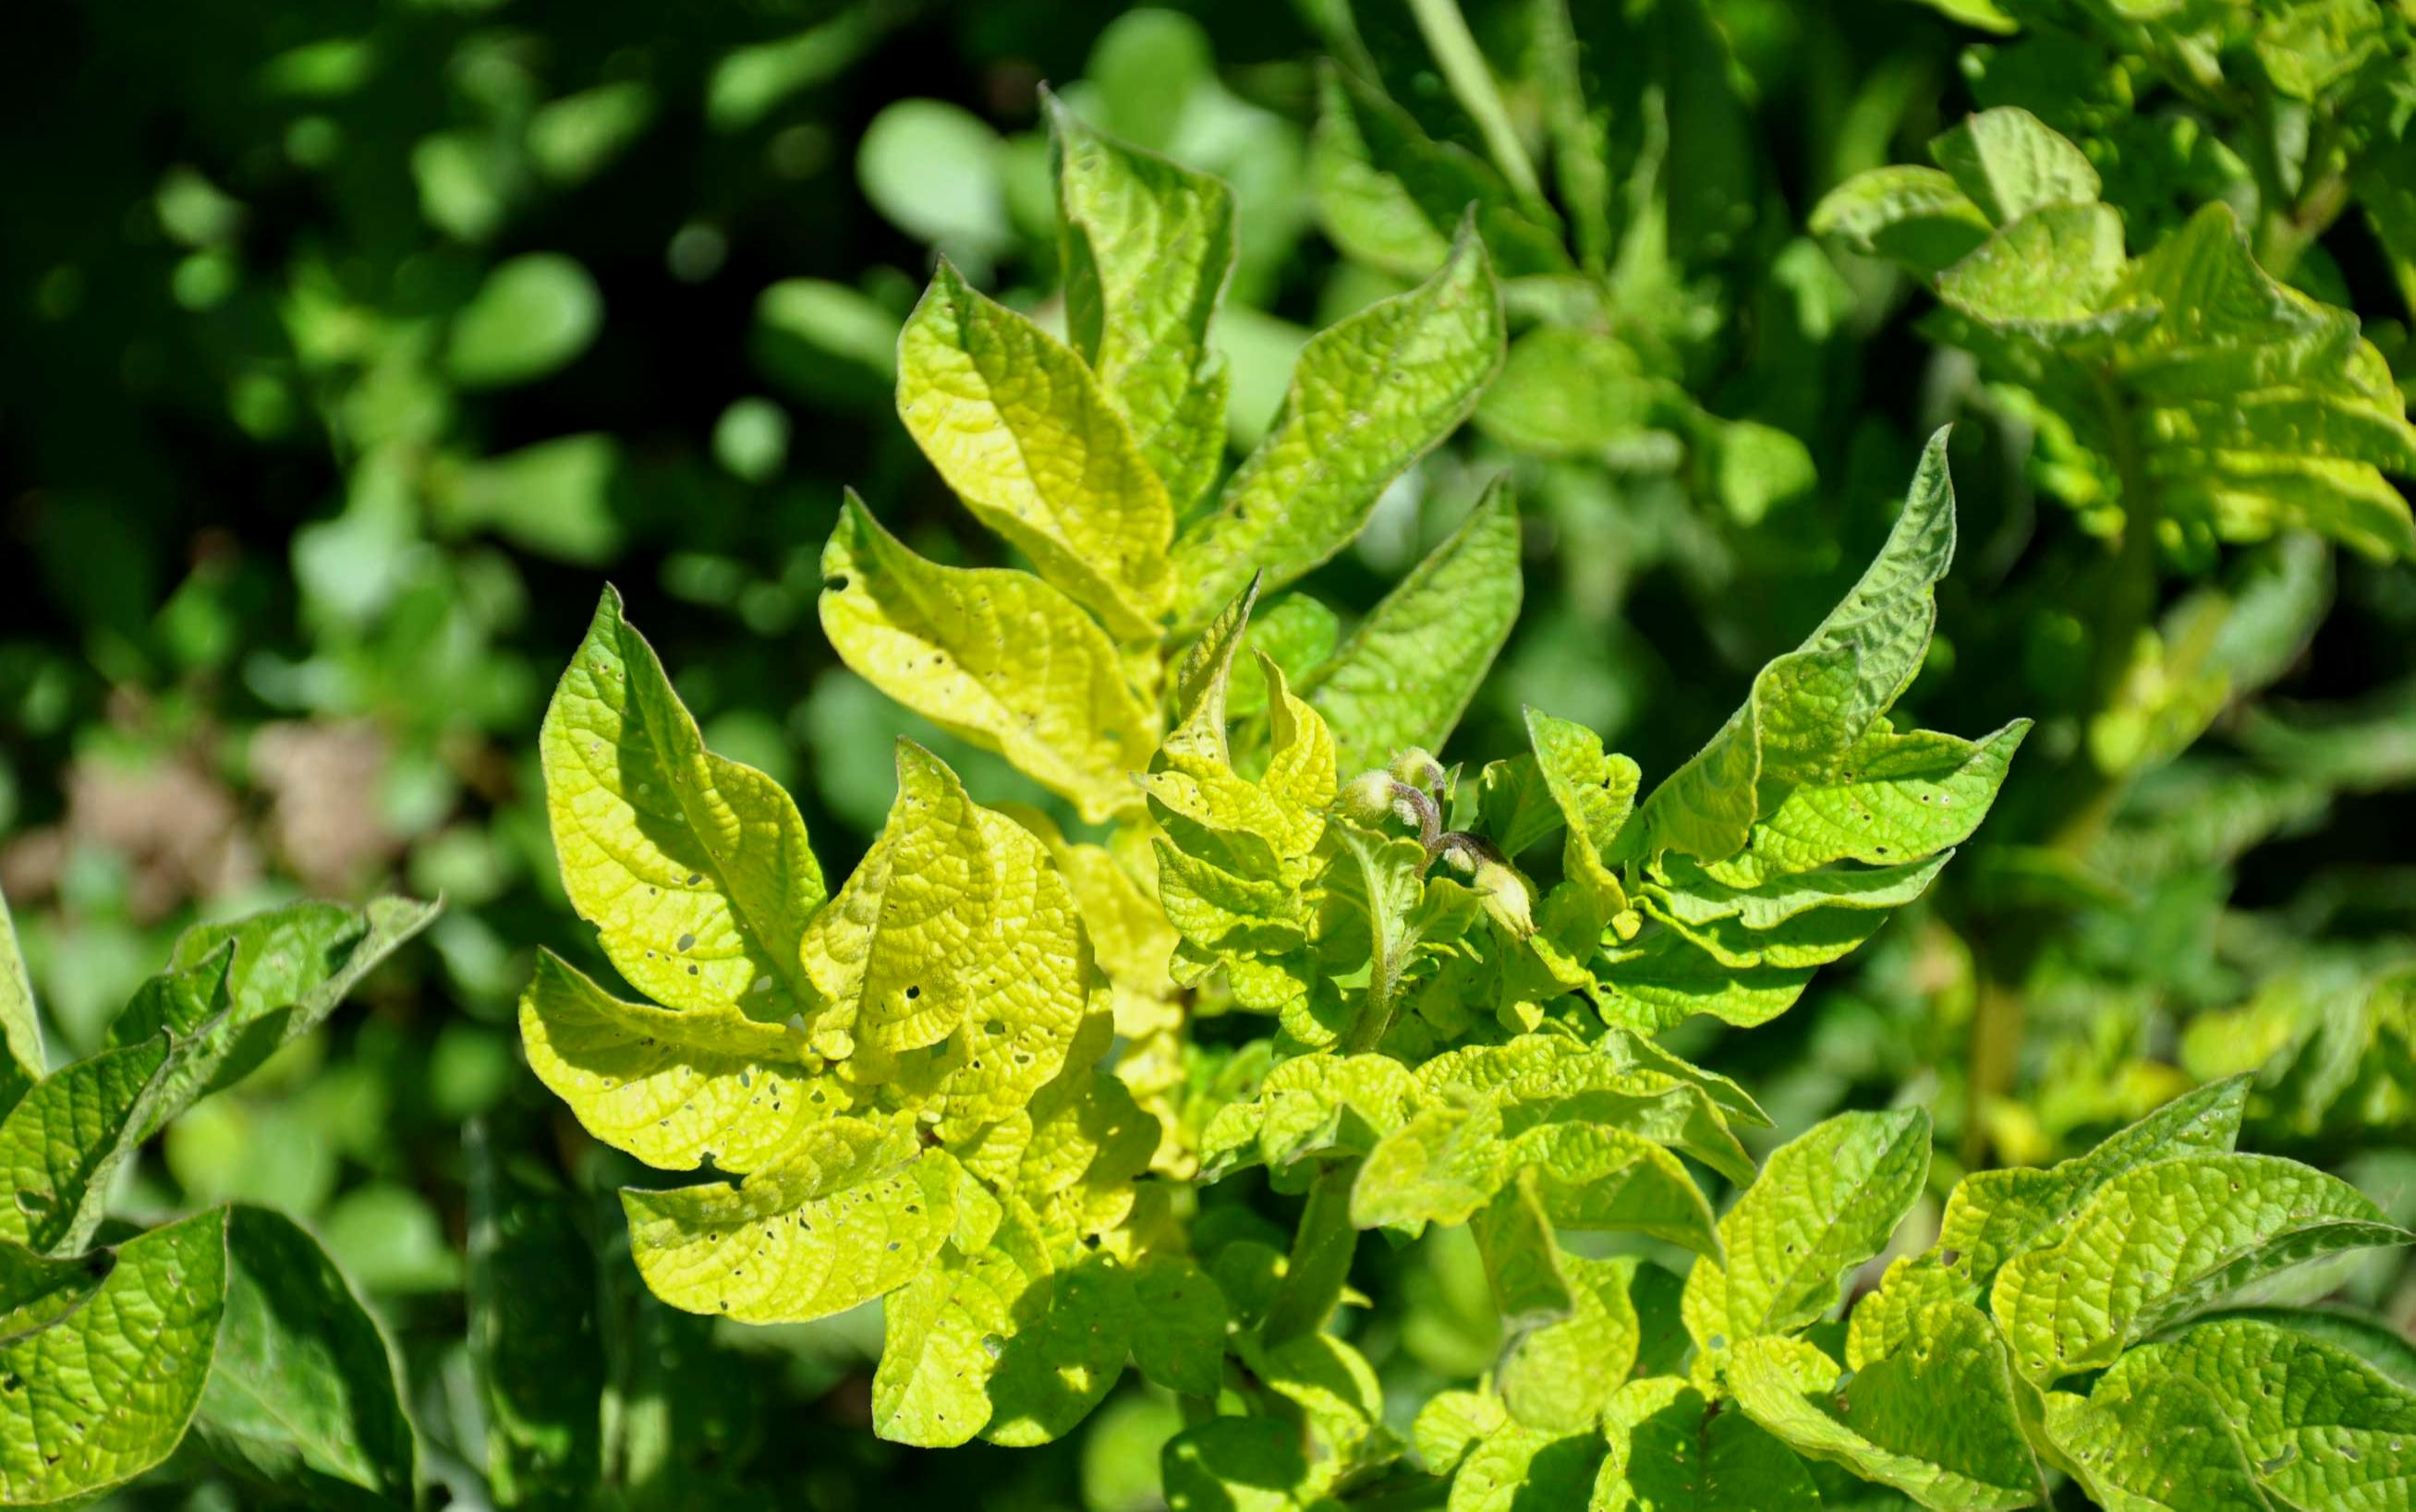Tomato leaf yellow virus: (472, 603, 848, 988), (1212, 193, 1549, 591), (1646, 1049, 1949, 1486), (1341, 1009, 1784, 1306), (1960, 1134, 2413, 1413), (883, 261, 1205, 631), (798, 509, 1146, 847), (1681, 676, 2052, 928), (0, 1162, 256, 1512), (815, 714, 1009, 1104)
